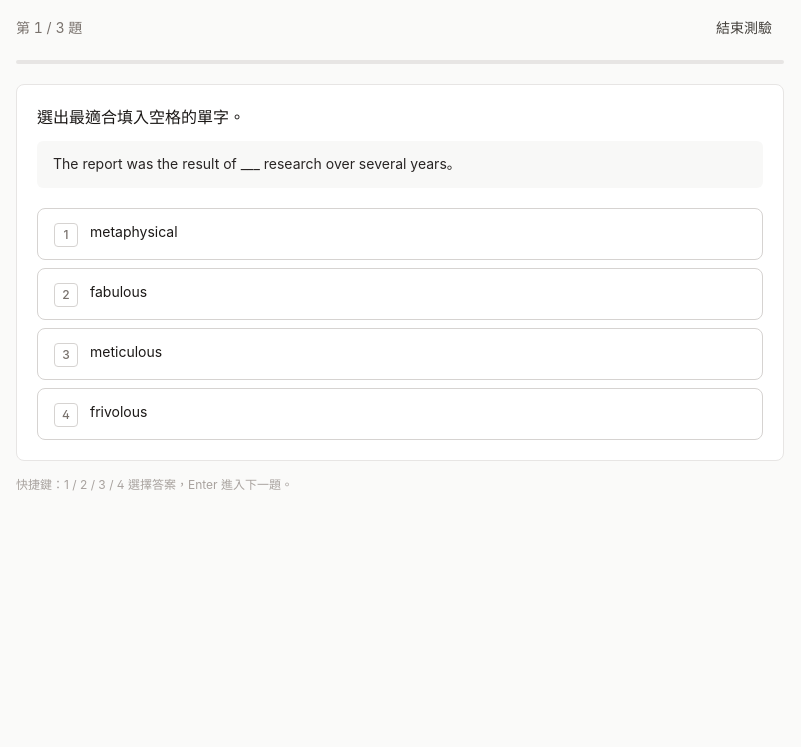
Test: QuizRunner › marks a wrong answer and shows the correct one
This screenshot has width=801, height=747.
Click the text "metaphysical".
click(134, 231)  # box [90, 223, 178, 240]
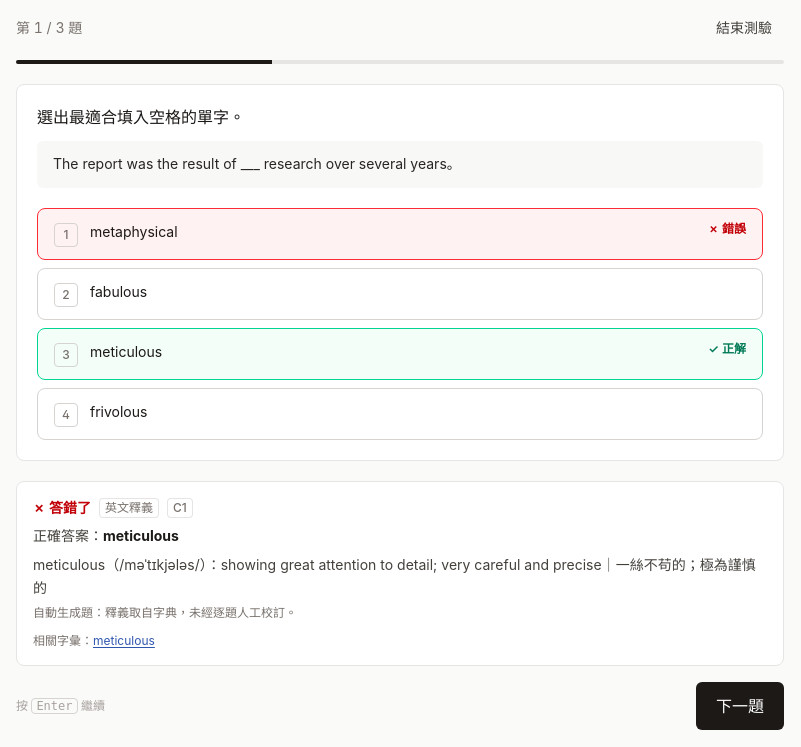
expect the text "✗ 答錯了" is shown: met, box [33, 498, 91, 518]
expect the text "正確答案：meticulous" is shown: met, box [33, 527, 179, 544]
